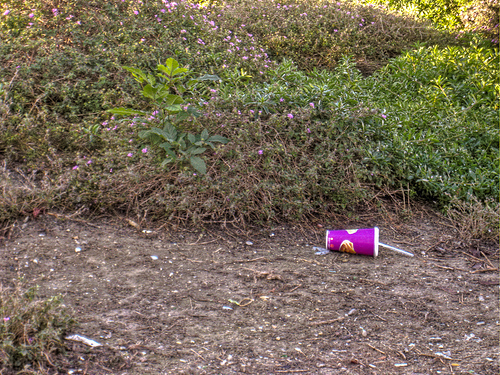litter: (323, 228, 404, 257)
